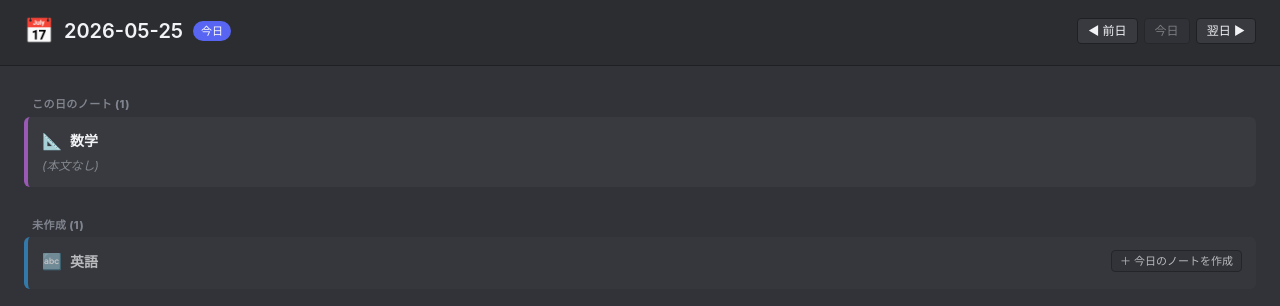
DailyView – additional branches › navigates forward and does not show today badge
Expected: the text "2026-05-25" is shown, left=64, top=16, right=183, bottom=46
# Click forward to tomorrow
Click the button "翌日 ▶" at point(1226, 31), box left=1196, top=18, right=1256, bottom=44
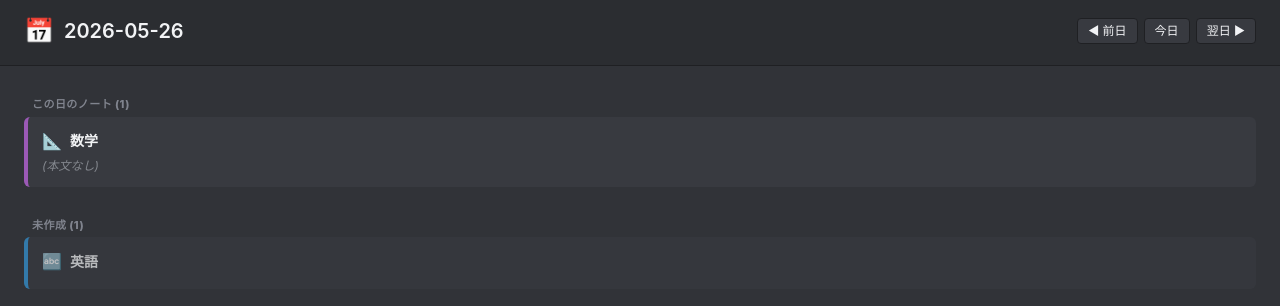
Now the button "今日" is enabled, box left=1144, top=18, right=1190, bottom=44
